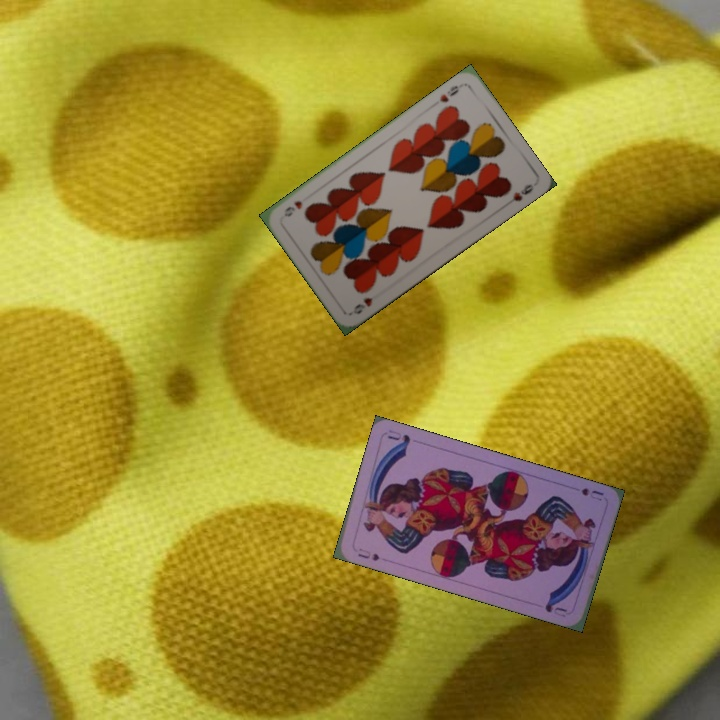H9: (349, 293, 375, 317), (435, 81, 461, 105)
SU: (577, 484, 606, 504), (354, 544, 382, 564)
